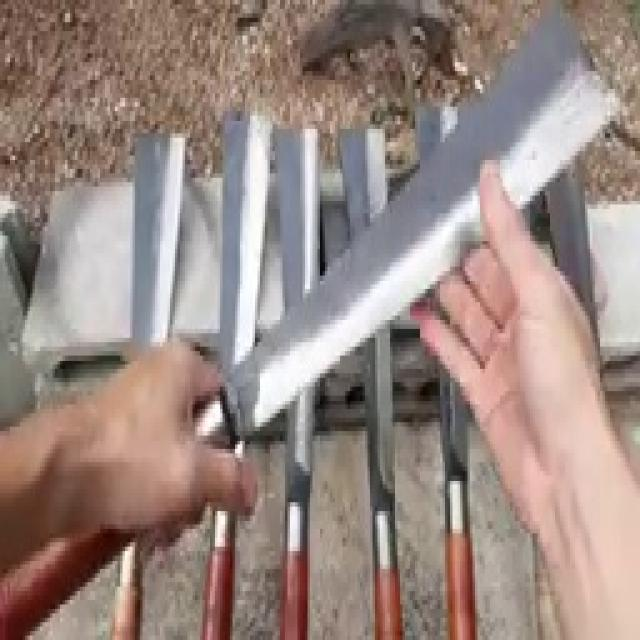eto: (0, 13, 626, 640)
